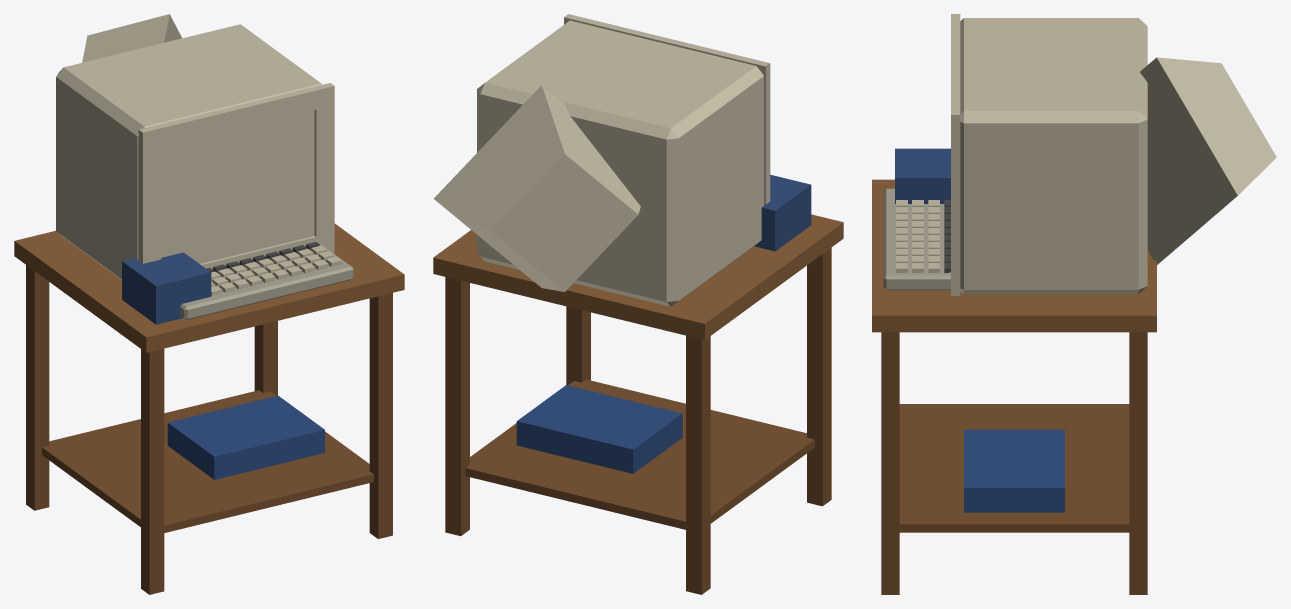
Rendered from room.terminal.glb.
3 renders of one model, left to right at view 1: azimuth 30°, elevation 25°; view 2: azimuth 150°, elevation 25°; view 3: azimuth 270°, elevation 25°, orthographic. The views are drawn at different scales.
Visible parts, largest first — view 1: tube, table-shelf, table-top, manuals, table-leg-11, table-leg11, table-leg-1-1, bezel-t, disks, keyboard, bezel-s-1, bezel-s1 (+3 smaller); view 2: tube, back, table-shelf, table-top, manuals, table-leg-1-1, table-leg1-1, table-leg-11, disks, table-leg11, bezel-t, bezel-s-1; view 3: tube, table-shelf, back, table-top, manuals, table-leg1-1, table-leg11, keyboard, disks, bezel-s1, bezel-t.
Boxes of the visible parts, <box> form: tube: <box>56,24,322,279</box>; table-shelf: <box>42,390,373,532</box>; table-top: <box>14,223,404,352</box>; manuals: <box>167,395,324,479</box>; table-leg-11: <box>141,348,164,594</box>; table-leg11: <box>369,293,392,538</box>; table-leg-1-1: <box>26,265,49,510</box>; bezel-t: <box>138,83,334,151</box>; disks: <box>122,252,211,324</box>; keyboard: <box>180,244,353,320</box>; bezel-s-1: <box>138,130,161,263</box>; bezel-s1: <box>314,89,334,253</box>; tube: <box>477,20,763,306</box>; back: <box>433,85,640,291</box>; table-shelf: <box>465,379,814,529</box>; table-top: <box>433,214,843,339</box>; manuals: <box>516,385,682,473</box>; table-leg-1-1: <box>686,335,710,594</box>; table-leg1-1: <box>445,277,469,536</box>; table-leg-11: <box>807,247,831,506</box>; disks: <box>754,174,811,251</box>; table-leg11: <box>566,306,590,385</box>; bezel-t: <box>564,14,770,85</box>; bezel-s-1: <box>757,65,770,204</box>; tube: <box>960,18,1147,294</box>; table-shelf: <box>899,404,1129,532</box>; back: <box>1140,57,1276,264</box>; table-top: <box>872,179,1156,332</box>; manuals: <box>964,429,1064,512</box>; table-leg1-1: <box>1129,332,1147,594</box>; table-leg11: <box>881,332,899,594</box>; keyboard: <box>883,188,950,290</box>; disks: <box>895,148,950,203</box>; bezel-s1: <box>951,117,960,295</box>; bezel-t: <box>951,14,960,135</box>.
Size of the model in its own units: 0.7 by 1.17 by 0.8809.
